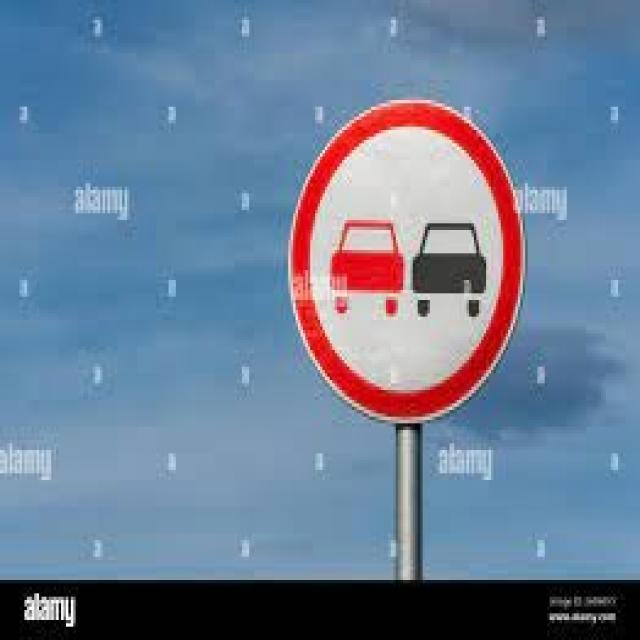no_passing: (284, 88, 532, 447)
